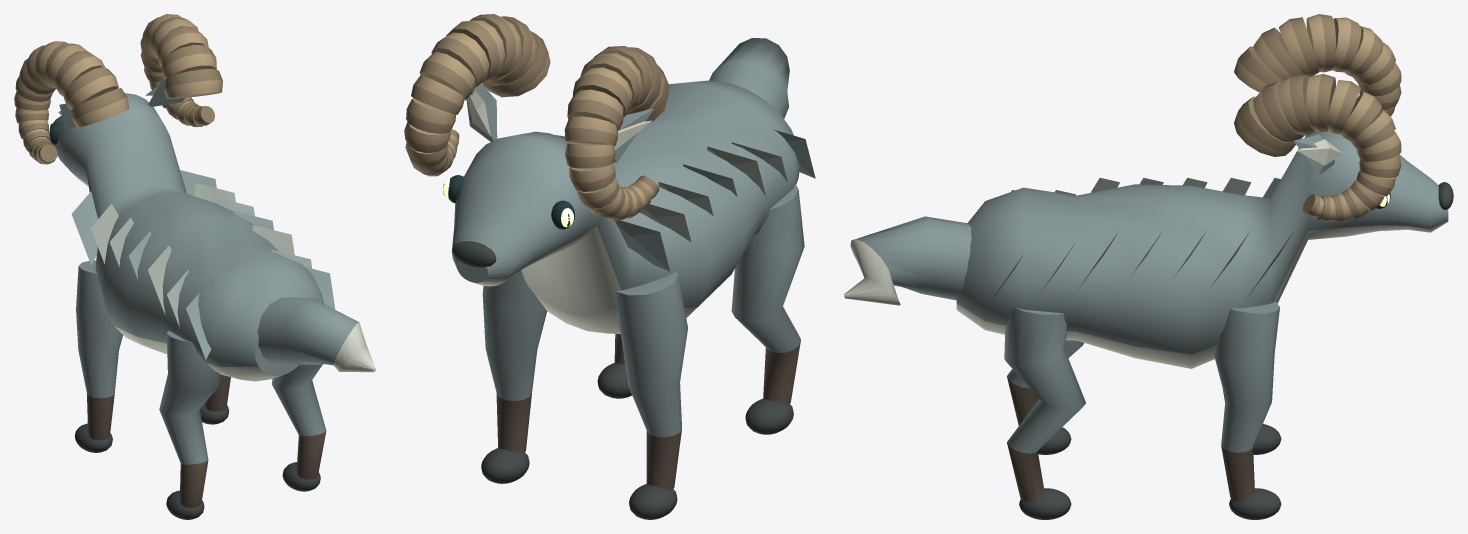
Rendered from snow_champion.glb.
The picture shows the model from 3 angles, left to right: view 1: azimuth 30°, elevation 25°; view 2: azimuth 150°, elevation 25°; view 3: azimuth 270°, elevation 25°; orthographic projection. The views are drawn at different scales.
Parts seen in each view (by area): view 1: Body, Walk02, Walk00, Walk03, Walk01; view 2: Body, Walk00, Walk02, Walk01, Walk03; view 3: Body, Walk03, Walk01, Walk02.
Boxes of the visible parts, box(x1,y1,x2,y2) form: Body: box(14, 14, 375, 381); Walk02: box(159, 331, 221, 519); Walk00: box(75, 260, 122, 452); Walk03: box(272, 364, 326, 491); Walk01: box(200, 374, 230, 424); Body: box(404, 14, 815, 333); Walk00: box(616, 272, 687, 519); Walk02: box(731, 184, 804, 434); Walk01: box(481, 271, 547, 483); Walk03: box(597, 334, 632, 398); Body: box(844, 14, 1453, 368); Walk03: box(1004, 308, 1085, 519); Walk01: box(1213, 301, 1281, 519); Walk02: box(1007, 340, 1084, 454).
Size of the model in its own units: 0.7907 by 1.66 by 2.09.
2 materials, 1 textured.
